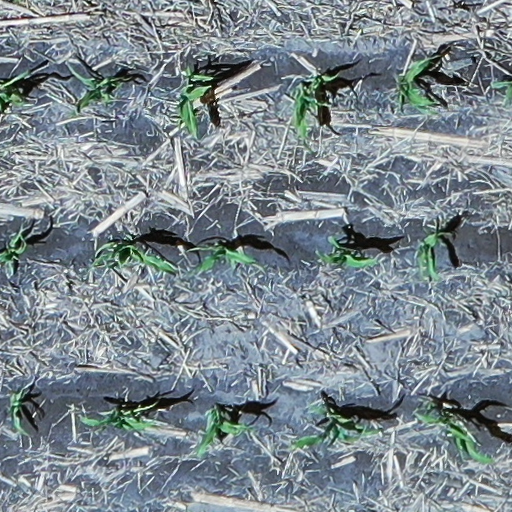planta: (417, 402, 492, 464), (292, 399, 382, 449), (77, 399, 160, 432), (291, 73, 331, 139), (196, 407, 251, 455), (94, 242, 176, 274), (176, 67, 209, 137), (396, 58, 435, 115), (186, 244, 256, 272), (320, 236, 377, 269), (77, 77, 122, 109), (417, 229, 441, 280), (10, 390, 32, 438)
